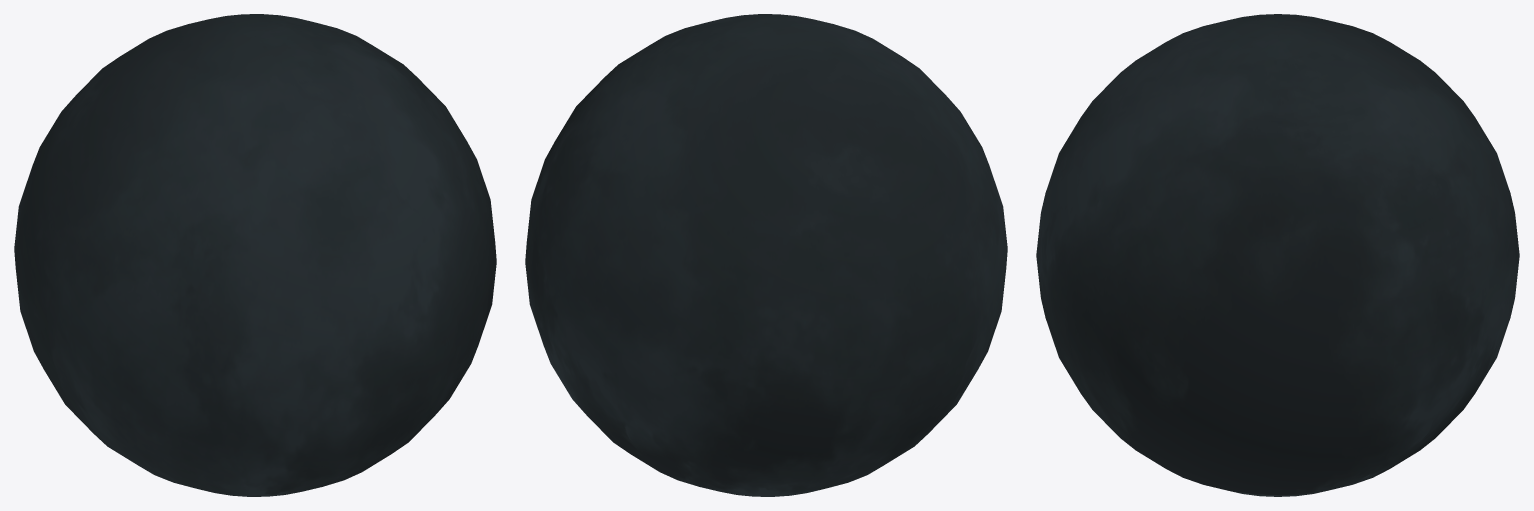
The model's file is battlearena2.glb.
3 views of the same model, side by side, from view 1: azimuth 30°, elevation 25°; view 2: azimuth 150°, elevation 25°; view 3: azimuth 270°, elevation 25° (orthographic).
Parts seen in each view (by area): view 1: Sphere; view 2: Sphere; view 3: Sphere.
Boxes of the visible parts, x1,y1,x2,y2 form: Sphere: [14, 14, 496, 496]; Sphere: [525, 14, 1007, 496]; Sphere: [1036, 14, 1519, 496].
Size of the model in its own units: 202 by 202 by 202.
27 materials, 25 textured.
